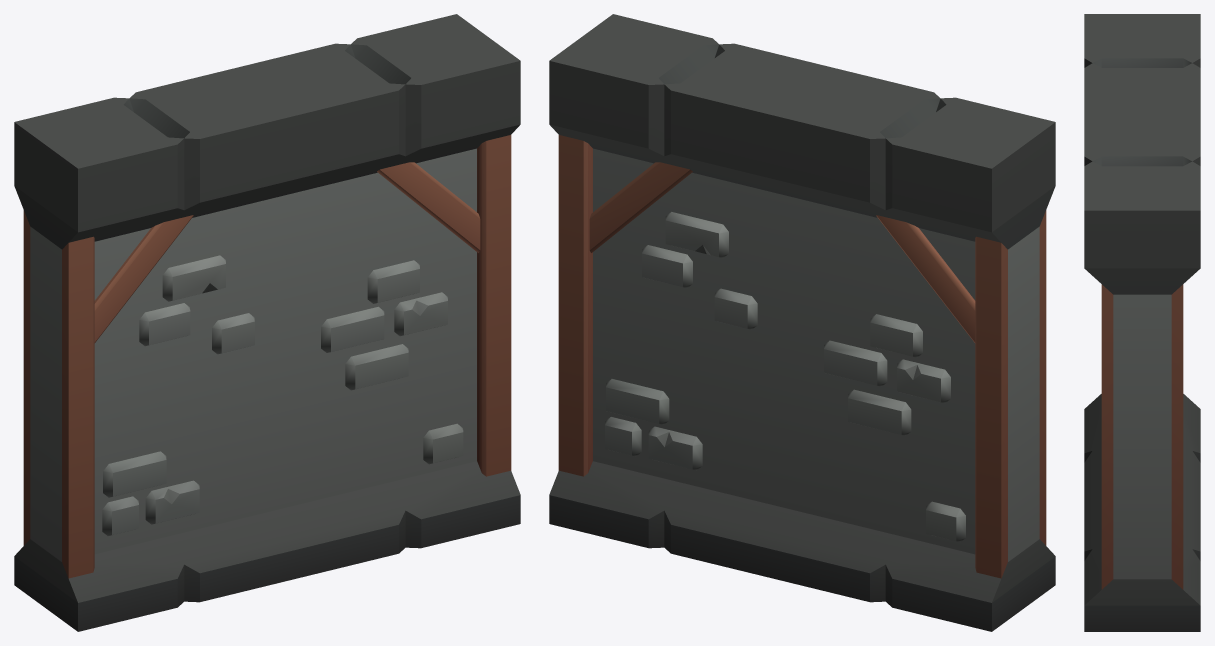
The model's file is wall-scaffold.glb.
3 views of the same model, side by side, from view 1: azimuth 30°, elevation 25°; view 2: azimuth 150°, elevation 25°; view 3: azimuth 270°, elevation 25° (orthographic). The views are drawn at different scales.
Visible parts, largest first — view 1: wall-scaffold; view 2: wall-scaffold; view 3: wall-scaffold.
Part boxes in pixels (left/top/right/bottom): wall-scaffold: left=14, top=14, right=520, bottom=631; wall-scaffold: left=549, top=14, right=1055, bottom=631; wall-scaffold: left=1084, top=14, right=1200, bottom=631.
Bounding box in the file's own units: 3 × 3 × 0.7501.
